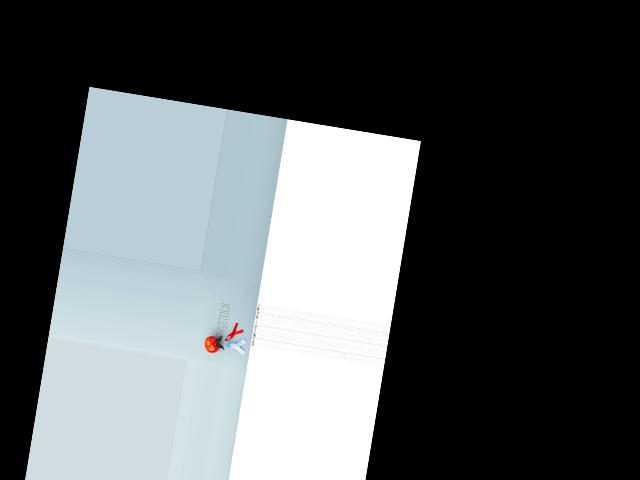tomato: (203, 334, 222, 353)
